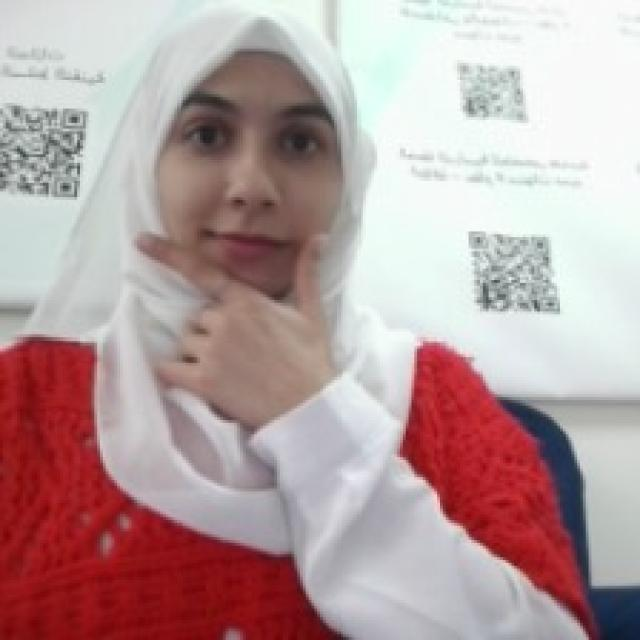smile: (126, 211, 340, 386)
